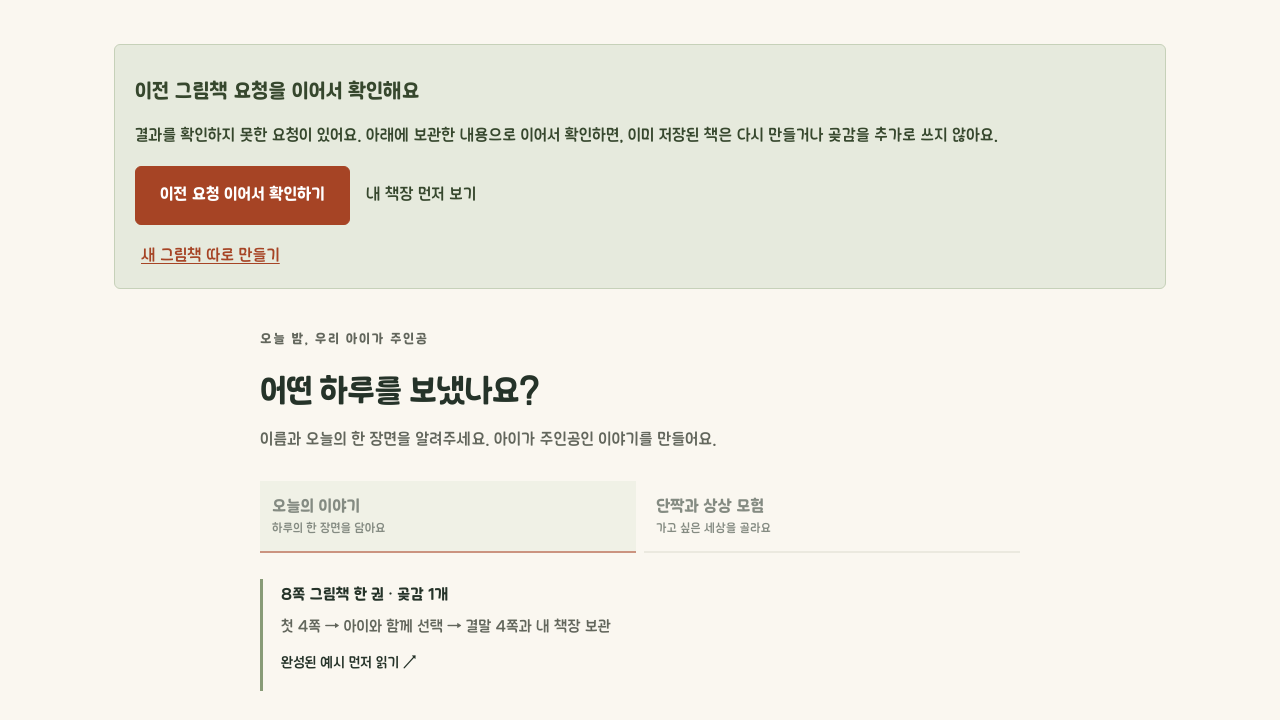
it: creation request recovery across page visits › requires explicit confirmation before unlocking a separate paid book
Click the button "새 그림책 따로 만들기".
click(210, 257)  # box [135,241,286,272]
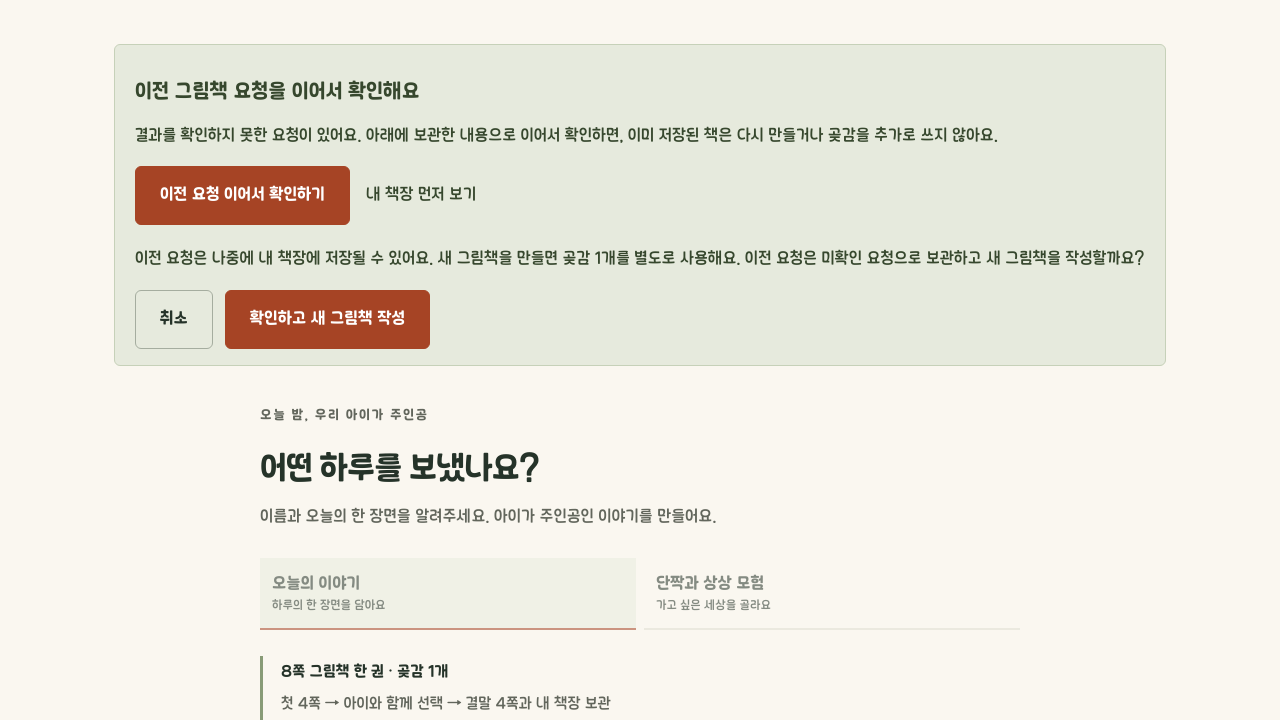
Expected: the text "이전 요청은 나중에 내 책장에 저장될 수 있어요" is shown, [135,249,1144,268]
Click the button "취소".
click(174, 319)  # box [135,290,213,349]
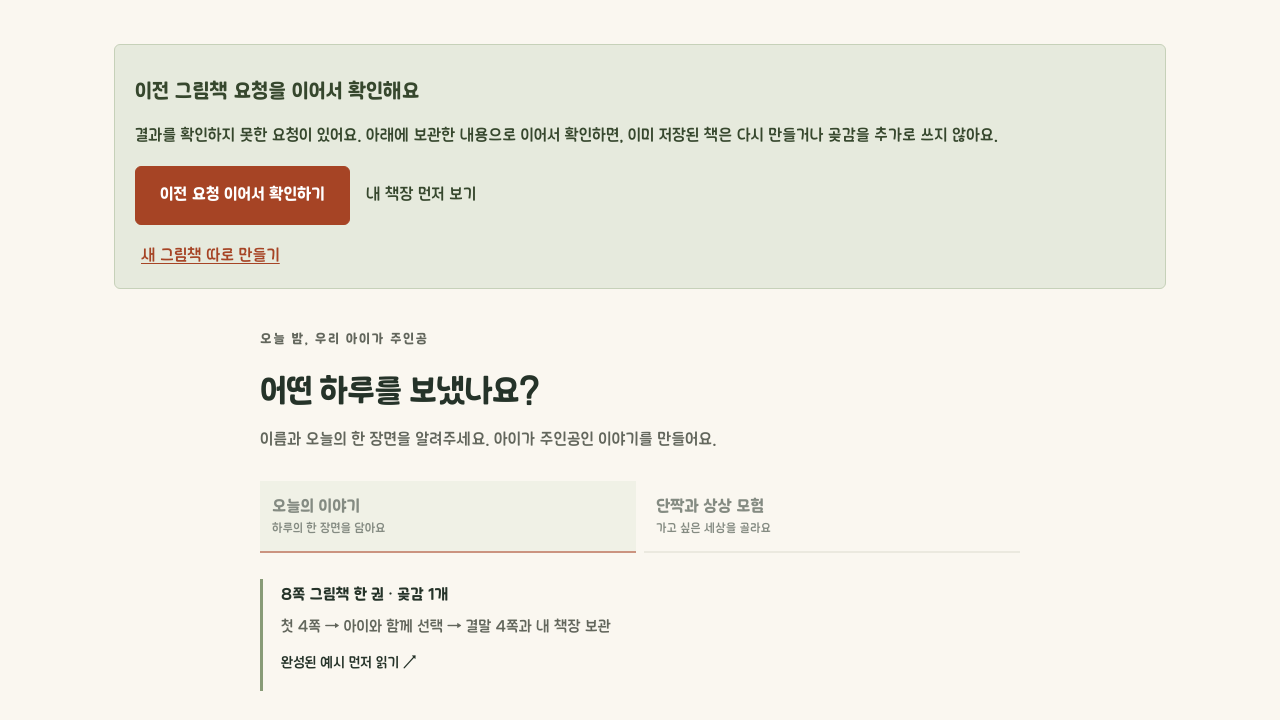
Expected: the button "확인하고 새 그림책 작성" is gone
